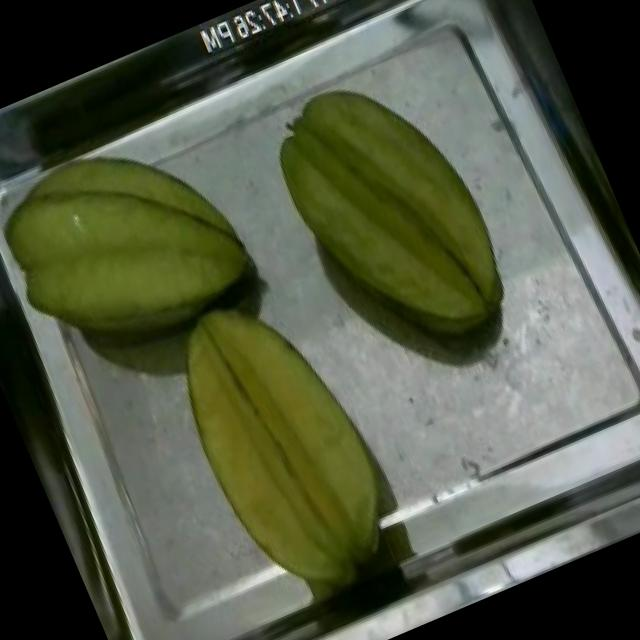fruit: (138, 257, 438, 634), (244, 39, 542, 397), (0, 100, 277, 392)
